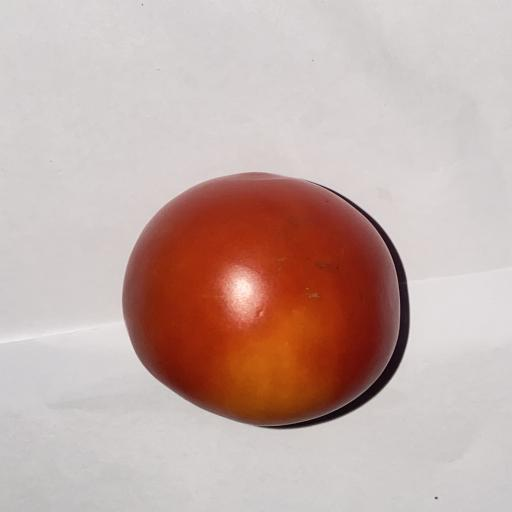ripe: (123, 173, 400, 425)
